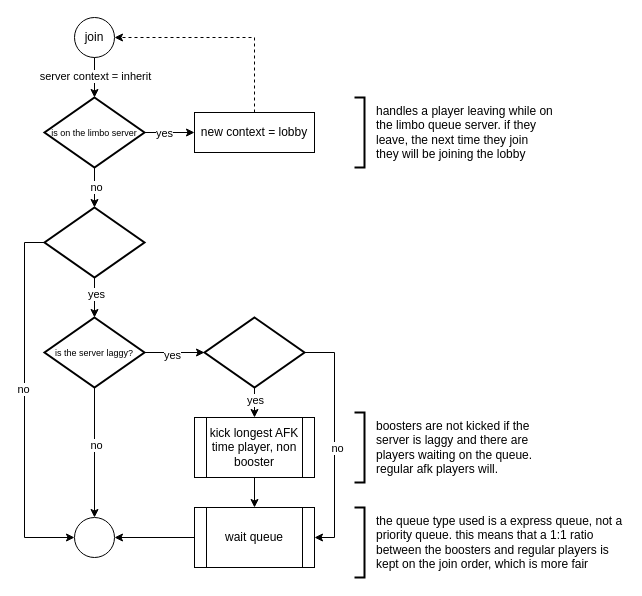
Image size: 642x596. Some labels were removed from this diagram. Each missing label, with the centre of its shape:
are there any non-boosters AFK players?: the point at 254,352
online players >= 26: the point at 94,242
play: the point at 94,537
